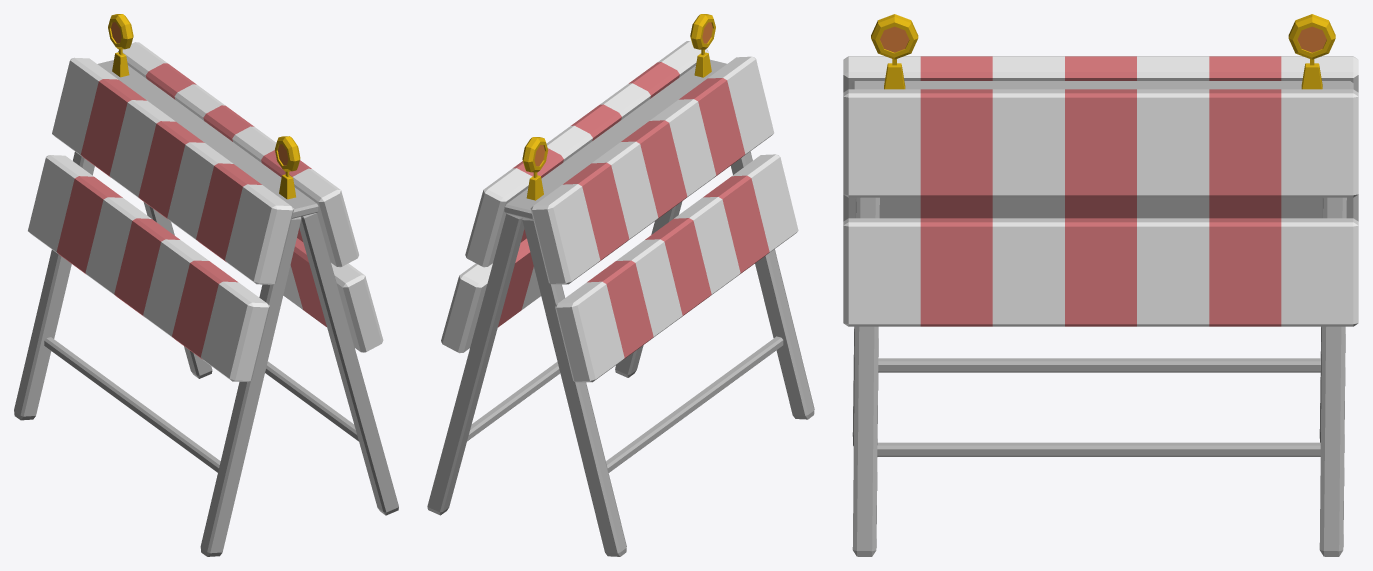
The model's file is Barrier C.glb.
The picture shows the model from 3 angles, left to right: view 1: azimuth 30°, elevation 25°; view 2: azimuth 150°, elevation 25°; view 3: azimuth 270°, elevation 25°; orthographic projection. The views are drawn at different scales.
Visible parts, largest first — view 1: Barrier C; view 2: Barrier C; view 3: Barrier C.
Boxes of the visible parts, x1=… form: Barrier C: x1=14, y1=14, x2=398, y2=556; Barrier C: x1=427, y1=14, x2=814, y2=556; Barrier C: x1=843, y1=14, x2=1358, y2=556.
Size of the model in its own units: 81.9 by 158 by 152.
